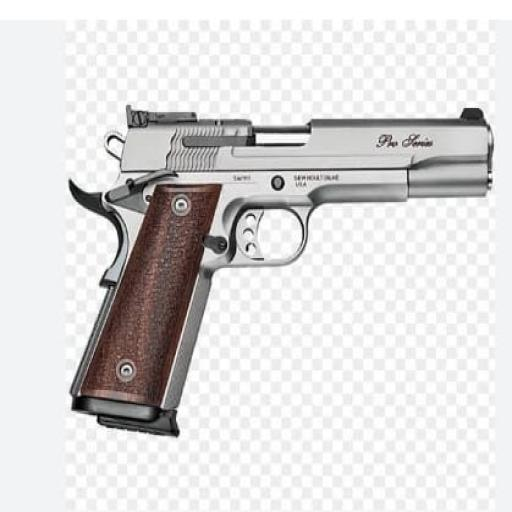Gun: (70, 107, 491, 433)
